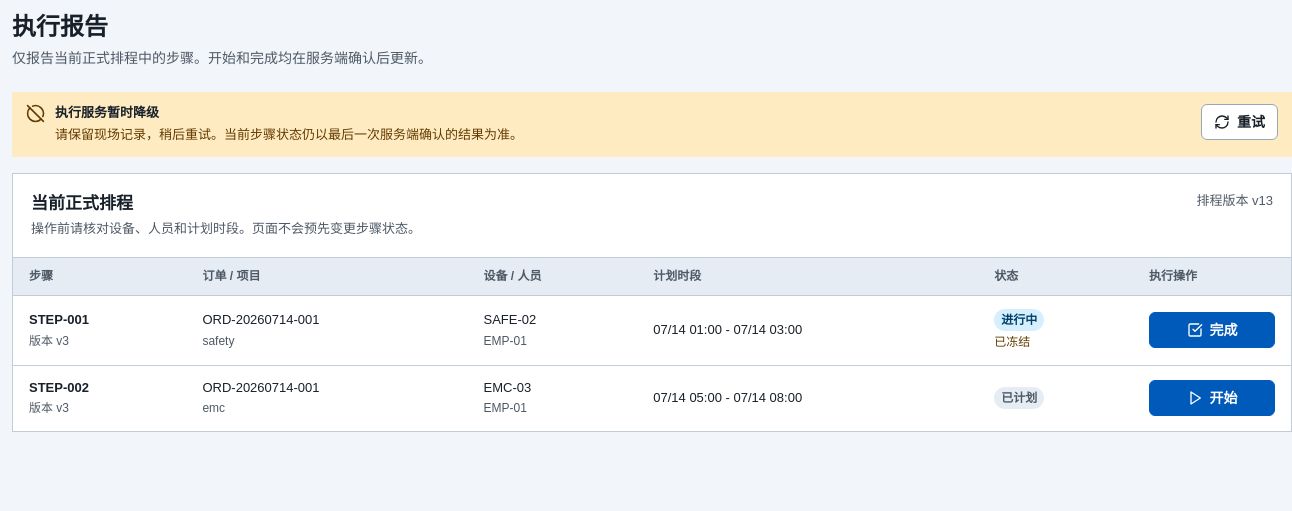
Scenario: ExecutionPage › keeps a scheduled step unchanged until the start is confirmed by the server
Later steps or results of the test are not shown.
Expected: the row "STEP-002" shows "已计划", [1001, 390, 1037, 404]
Click the button with aria-label "开始 STEP-002": (1212, 398) [1149, 380, 1275, 416]
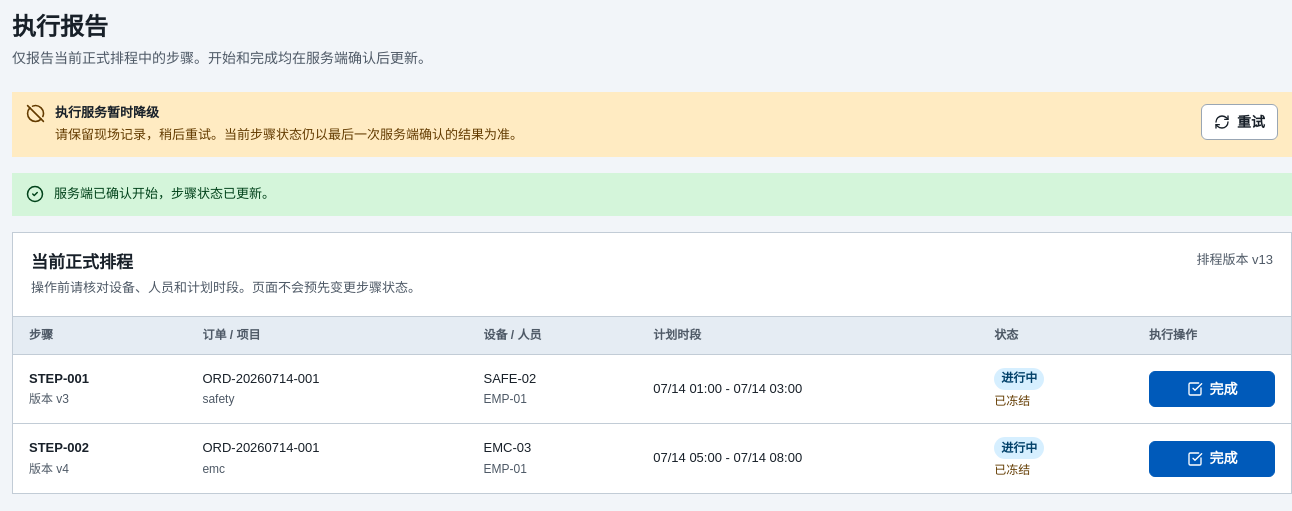
Now the row "STEP-002" shows "进行中", box [1001, 441, 1037, 455]
